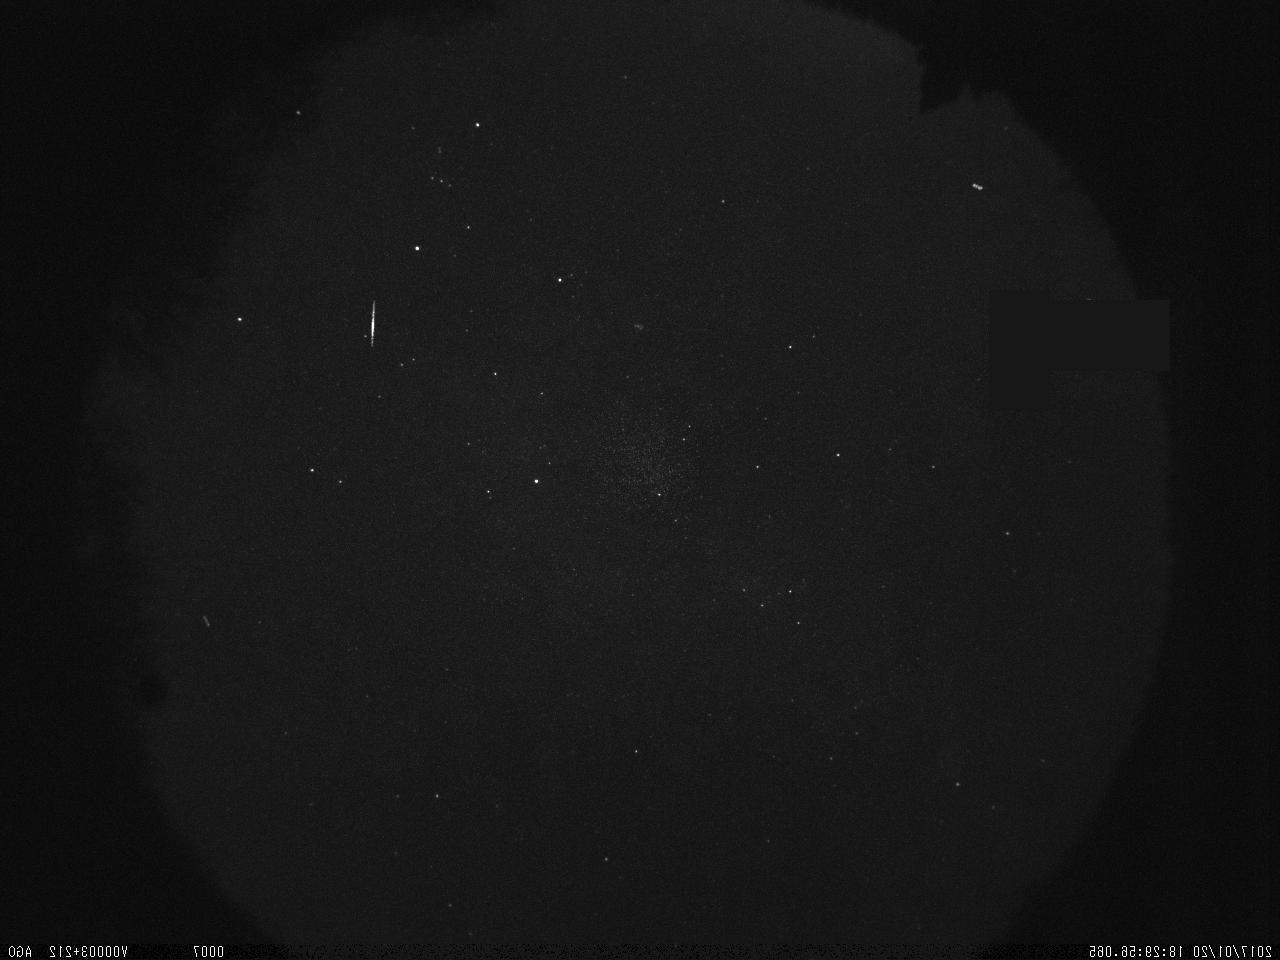meteor: (361, 293, 382, 357)
